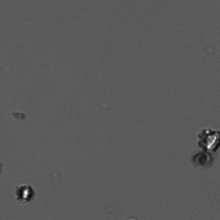Dead Cell: (191, 150, 213, 169)
Living Cell: (197, 128, 219, 151), (15, 182, 35, 202)
